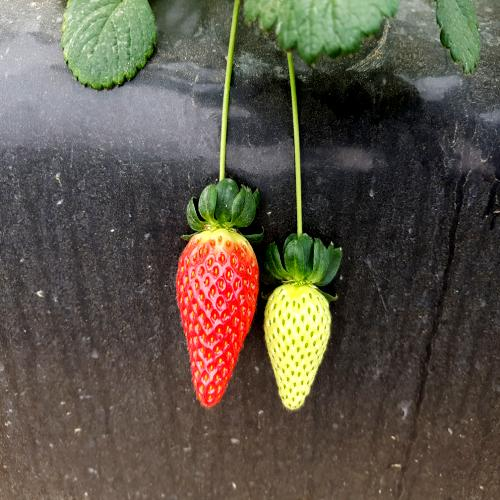ripe: (172, 228, 260, 412)
unripe: (262, 271, 333, 413)
